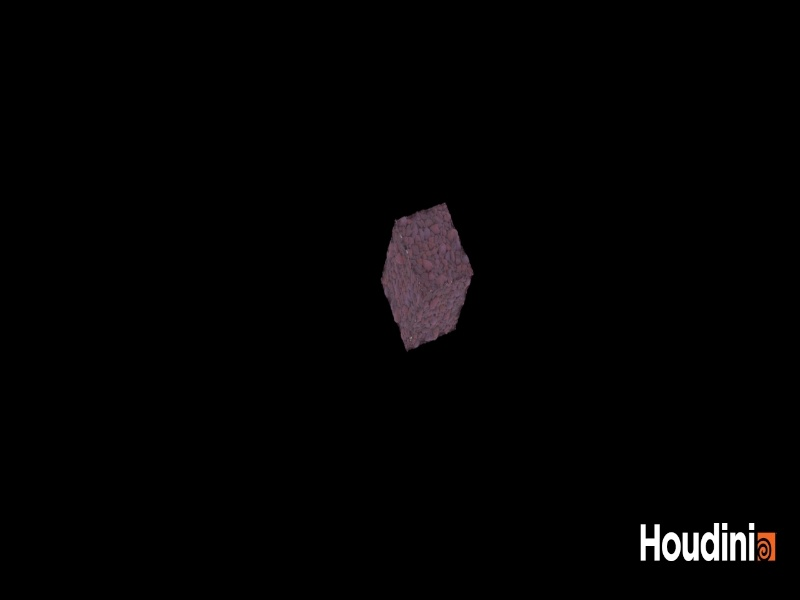waste: (378, 181, 478, 362)
